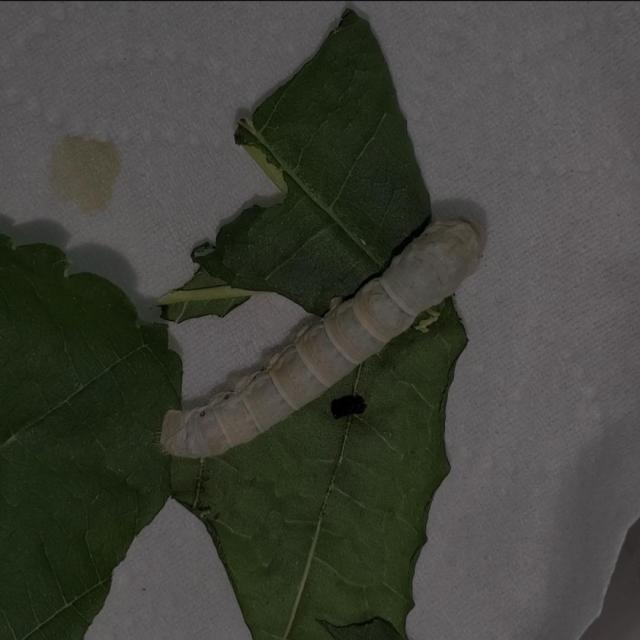Healthy: (149, 203, 486, 468)
